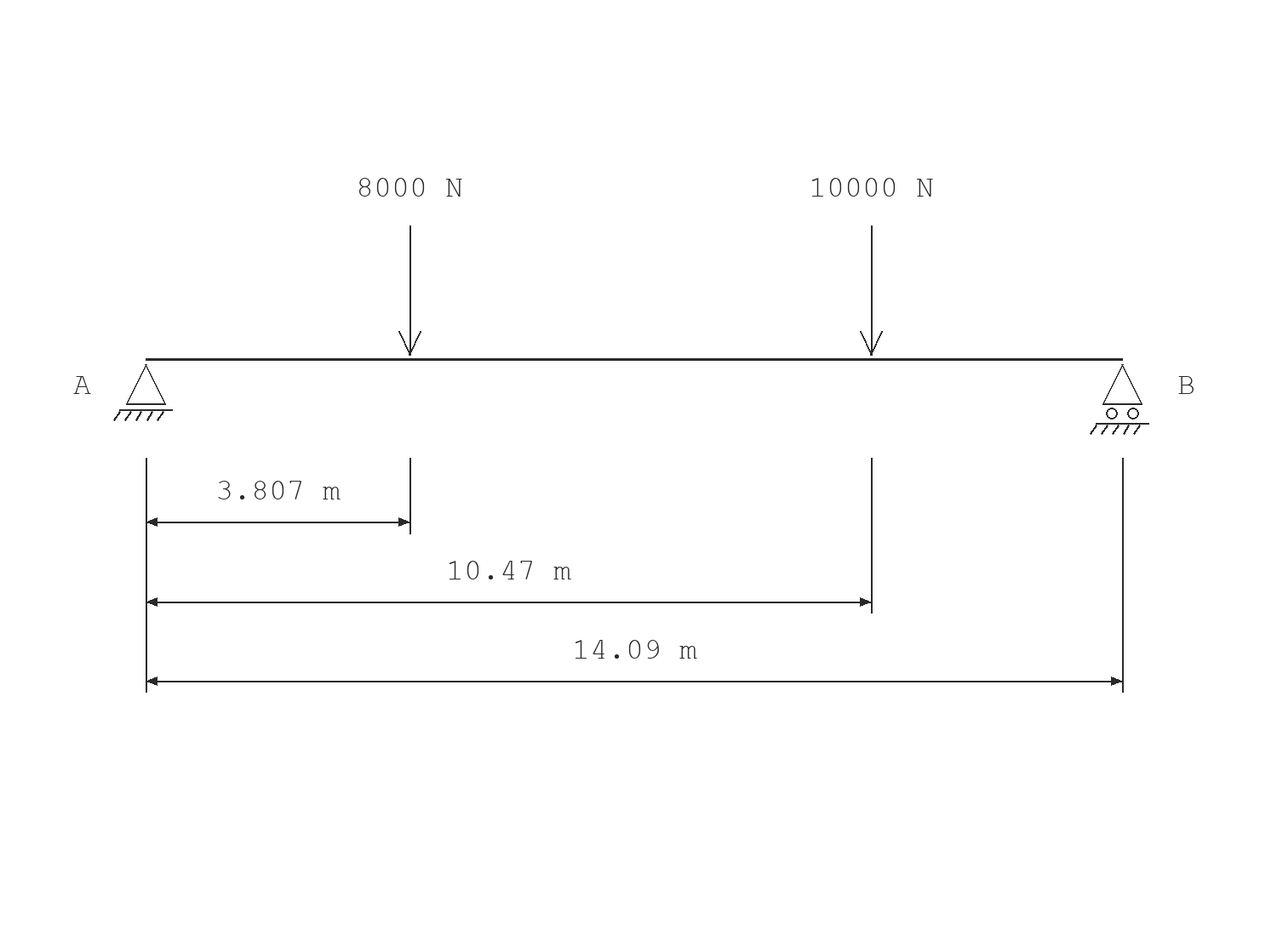pin_support: (113, 364, 173, 421)
point_load: (398, 225, 421, 356), (860, 225, 883, 356)
roller_support: (1090, 364, 1149, 435)
